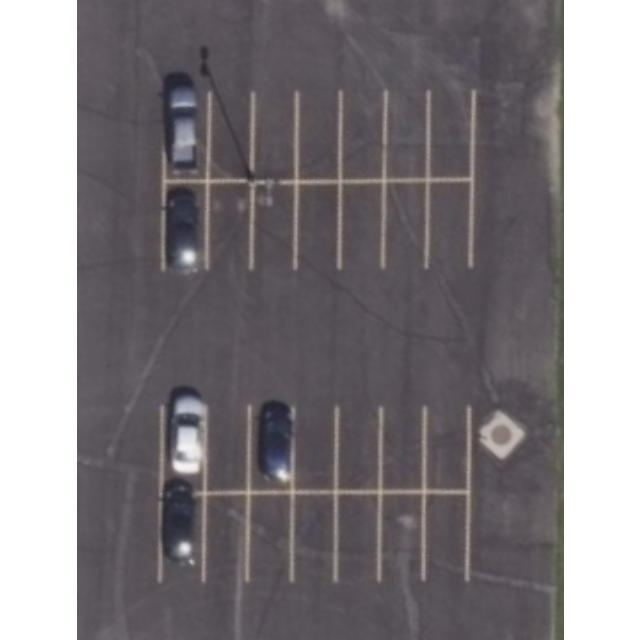Empty: (208, 92, 254, 182), (428, 90, 474, 180), (378, 492, 424, 582), (251, 92, 297, 180), (384, 91, 428, 181), (381, 182, 427, 268), (205, 182, 251, 268), (202, 494, 248, 580), (246, 494, 292, 580), (379, 406, 425, 492), (296, 91, 340, 180), (340, 91, 384, 180), (335, 492, 379, 580), (250, 183, 296, 267), (339, 182, 383, 268), (295, 182, 339, 268), (204, 406, 248, 492), (292, 406, 336, 492), (424, 406, 468, 492), (293, 494, 335, 580), (424, 492, 466, 578), (336, 408, 380, 490), (428, 182, 470, 266)
Parked: (162, 387, 204, 493), (161, 88, 209, 180), (162, 180, 206, 274), (158, 493, 204, 582), (248, 400, 292, 492)
